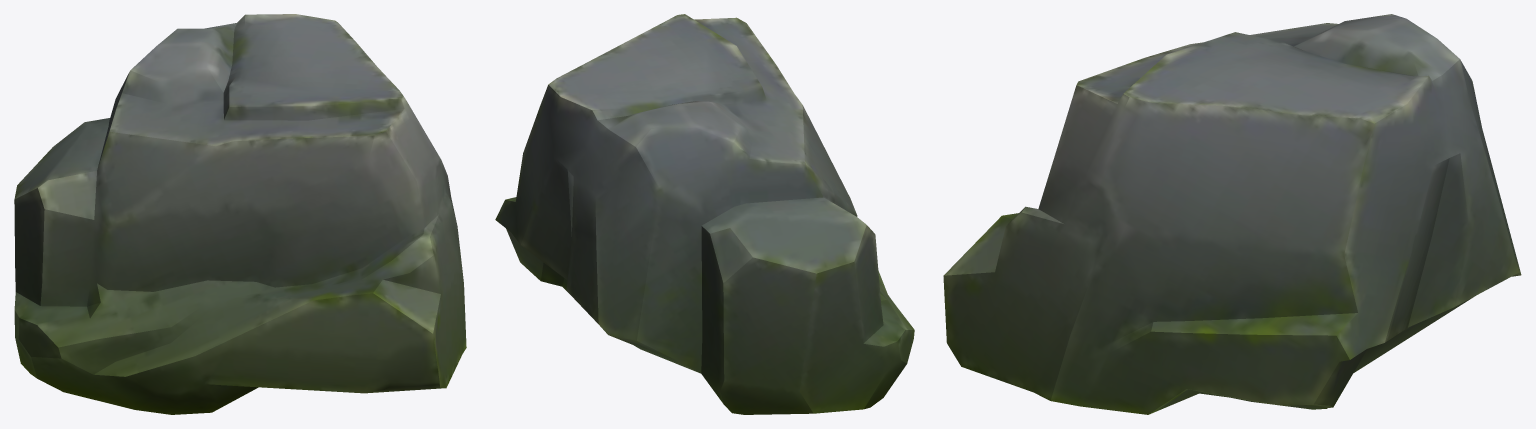
The model's file is Rock_Medium_3.gltf.
The picture shows the model from 3 angles, left to right: view 1: azimuth 30°, elevation 25°; view 2: azimuth 150°, elevation 25°; view 3: azimuth 270°, elevation 25°; orthographic projection. The views are drawn at different scales.
Visible parts, largest first — view 1: Rock_Medium_3; view 2: Rock_Medium_3; view 3: Rock_Medium_3.
Boxes of the visible parts, x1,y1,x2,y2 form: Rock_Medium_3: (14, 14, 466, 414); Rock_Medium_3: (495, 14, 914, 414); Rock_Medium_3: (943, 14, 1521, 414).
Size of the model in its own units: 3.42 by 2.32 by 3.48.
Materials: 1 (1 with a texture image).
